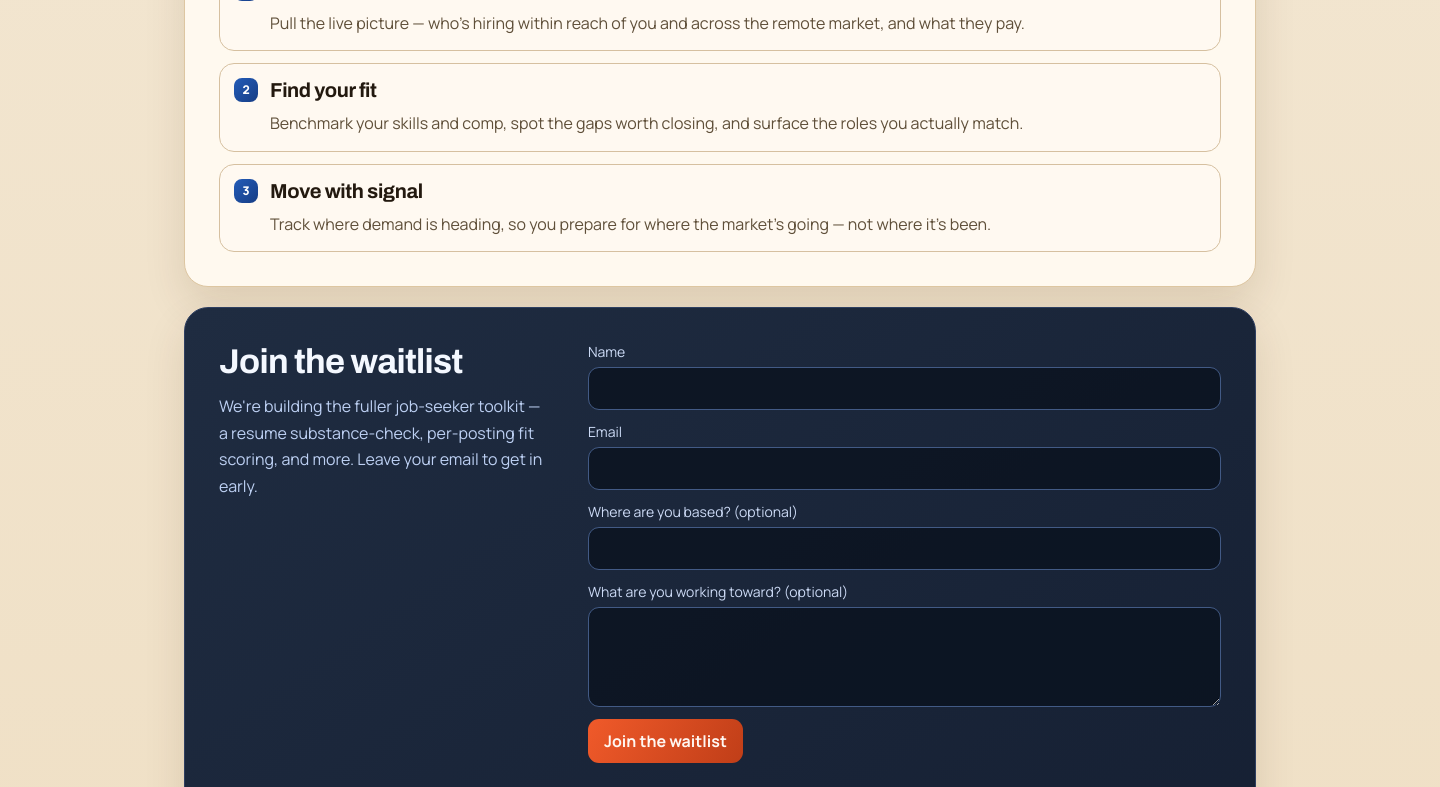
Test: App › lead form submission › submits form and shows success message
(page scrolled)
In the field labelled "Name": (904, 389) [588, 367, 1221, 410], type "Jane Recruiter"
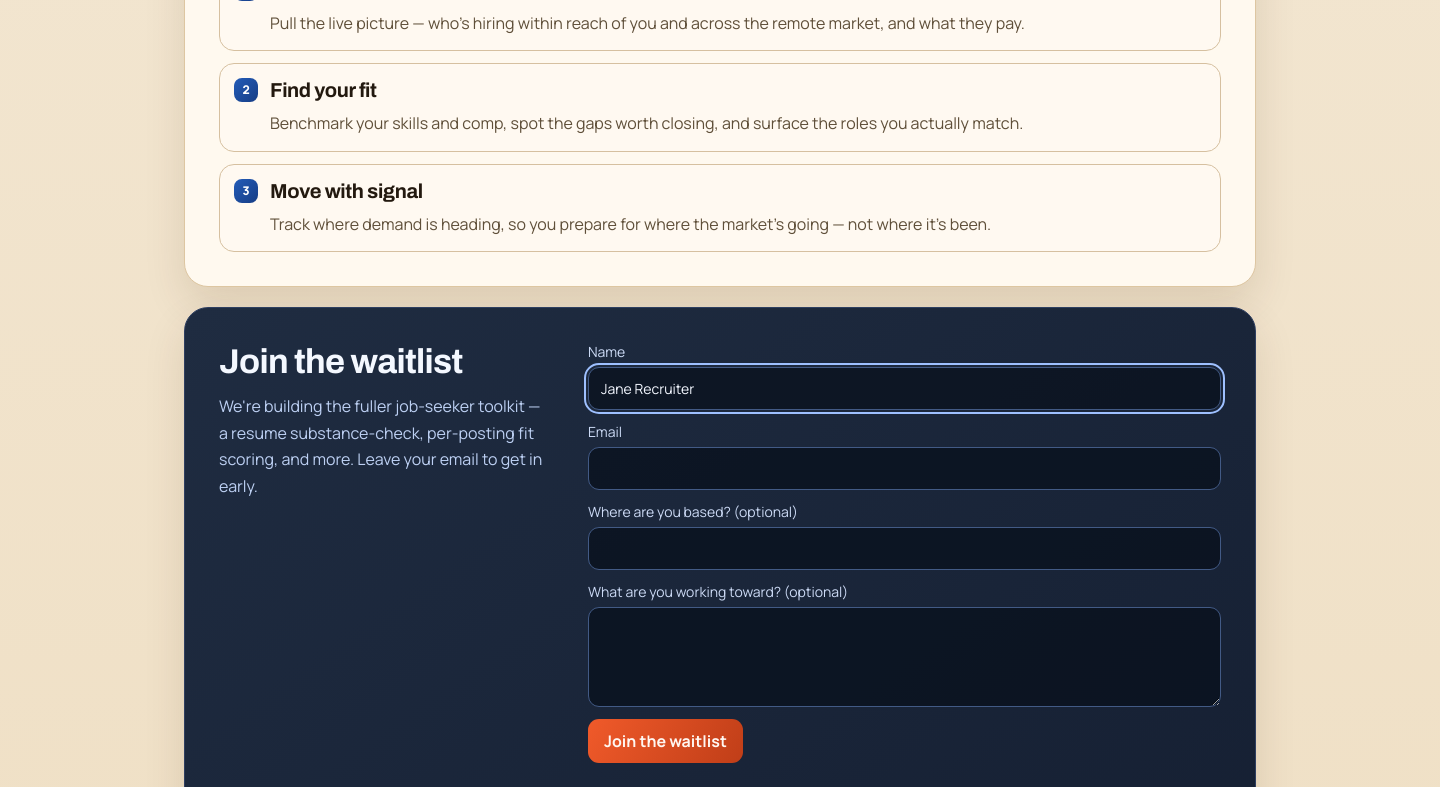
In the field labelled "Email": (904, 469) [588, 447, 1221, 490], type "jane@example.com"
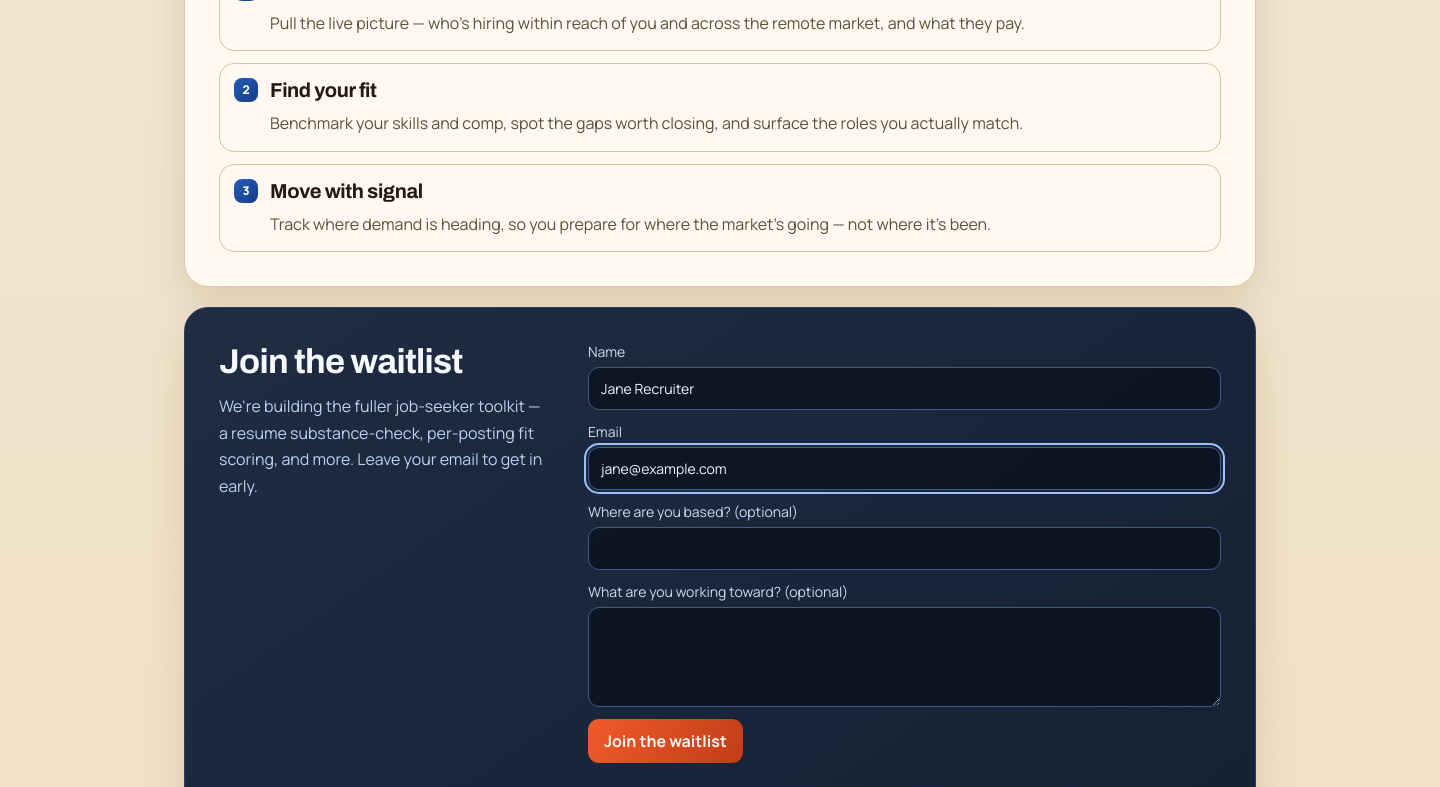
Click the button "Join the waitlist": (665, 741) [588, 719, 743, 763]
(page scrolled)
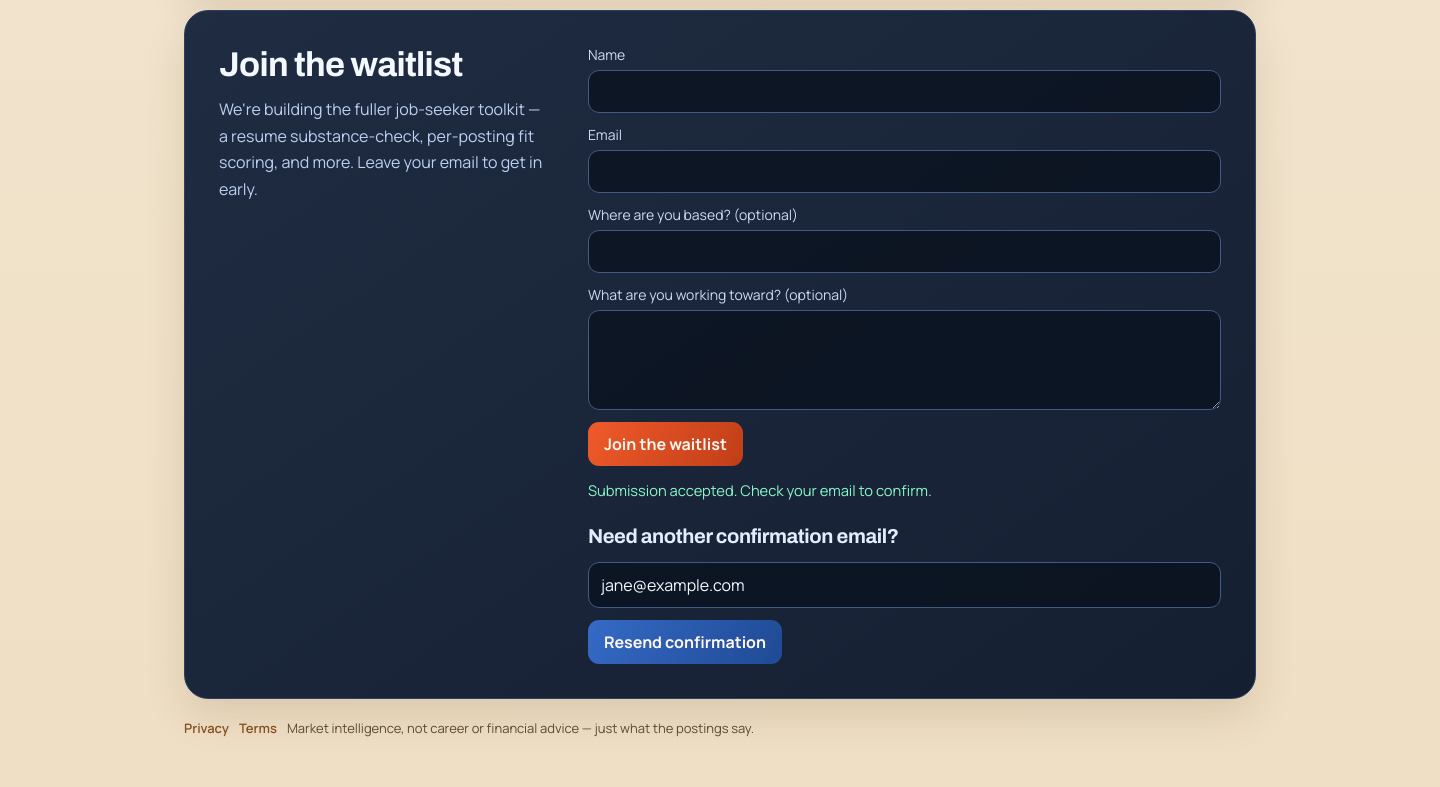
expect the text "Submission accepted. Check your email to confirm." is shown: met, box [588, 480, 932, 500]
